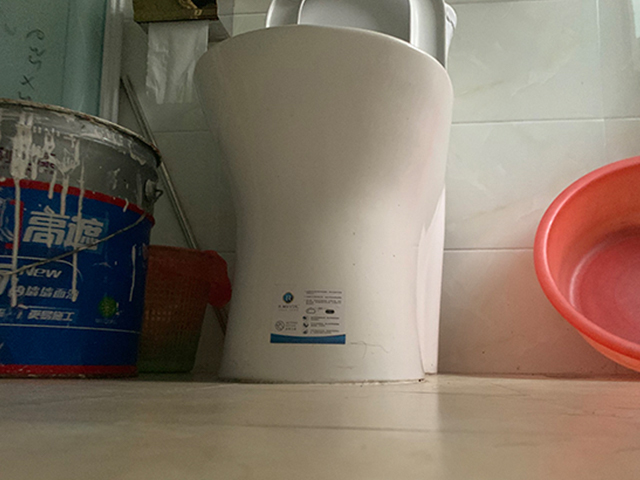closestool: (191, 1, 457, 385)
trash can: (139, 246, 214, 375)
